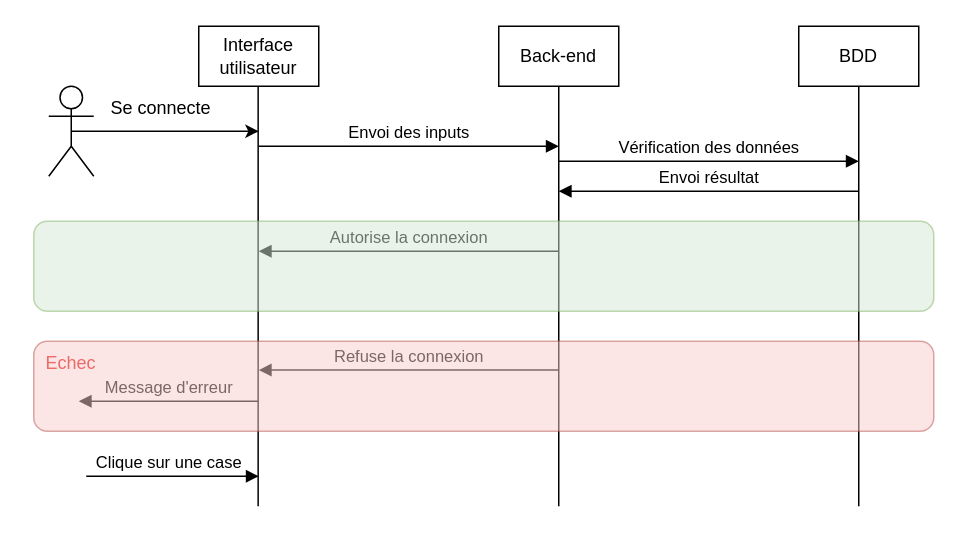
Some shapes in this 960 by 534 pixel diagram are drawn without their labels. Here are the shapes that lost their labels. From the top down, the box of each, then its label:
(47, 85, 94, 176): Utilisateur
(32, 220, 934, 311): Succès
